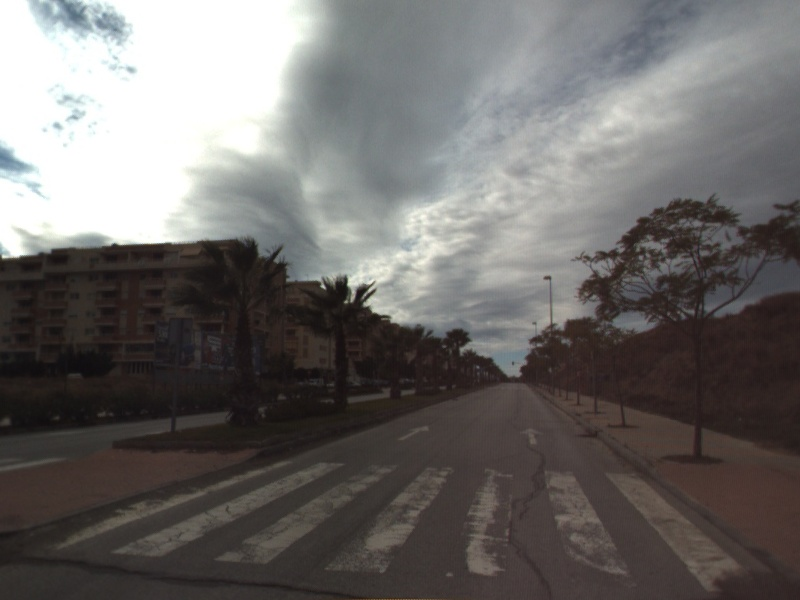STRAIGHT: (396, 423, 431, 442), (518, 425, 546, 446)
